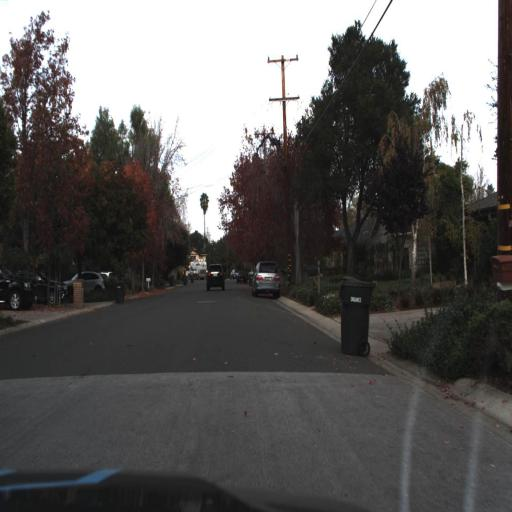car: (0, 259, 45, 313), (38, 264, 69, 303), (252, 259, 282, 297), (72, 267, 106, 294), (202, 260, 228, 292), (235, 271, 247, 285)
